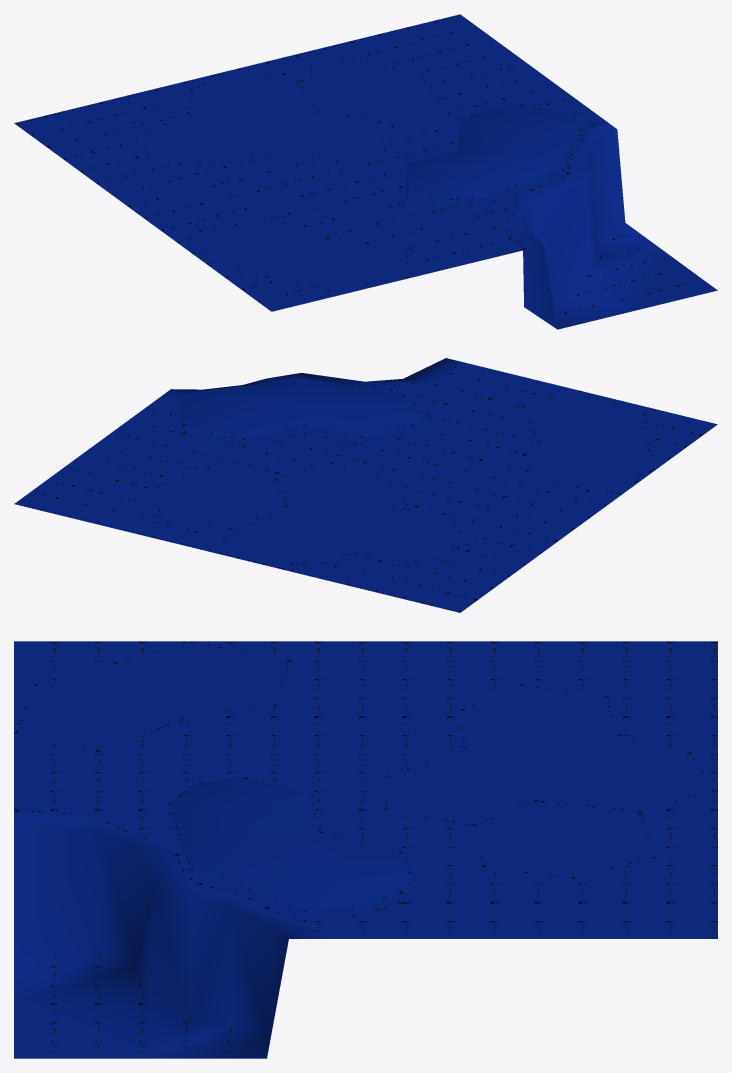
Rendered from GRD_S_C4_3.fbx.
3 views of the same model, one above another, from view 1: azimuth 30°, elevation 25°; view 2: azimuth 150°, elevation 25°; view 3: azimuth 270°, elevation 25° (orthographic). The views are drawn at different scales.
Parts seen in each view (by area): view 1: material_00022000, material_C0032000, material_00042000, material_C0012000, material_C0052000; view 2: material_00022000, material_C0032000, material_C0012000, material_00042000, material_C0052000; view 3: material_00022000, material_C0032000, material_00042000, material_C0012000, material_C0052000.
Boxes of the visible parts, x1,y1,x2,y2 form: material_00022000: (14,14,717,329); material_C0032000: (136,60,439,290); material_00042000: (501,120,625,329); material_C0012000: (406,104,585,200); material_C0052000: (406,129,585,207); material_00022000: (14,363,717,612); material_C0032000: (155,390,653,565); material_C0012000: (179,377,423,440); material_00042000: (159,358,466,399); material_C0052000: (179,414,423,447); material_00022000: (14,641,717,1058); material_C0032000: (14,641,717,879); material_00042000: (14,808,321,1057); material_C0012000: (167,777,411,912); material_C0052000: (167,812,411,922).
Size of the model in its own units: 12800 by 2800 by 12800.
